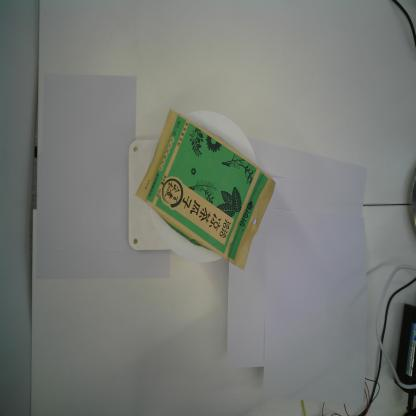Dried Food: (134, 106, 278, 273)
